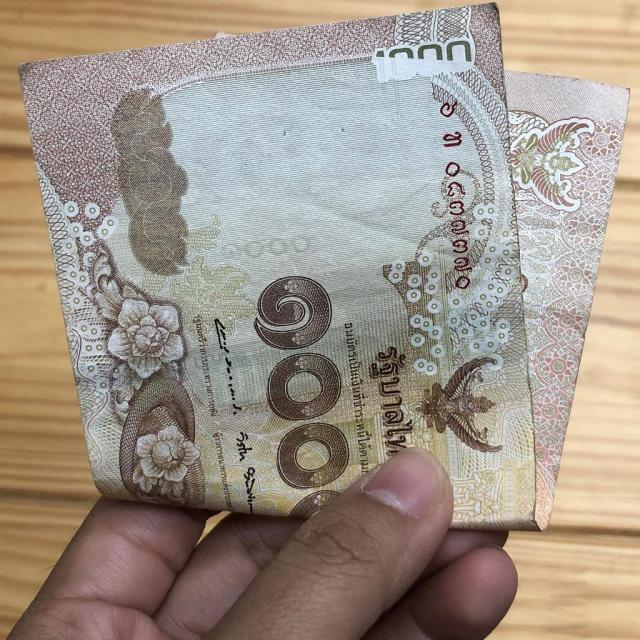THAI1000: (21, 4, 628, 530)
